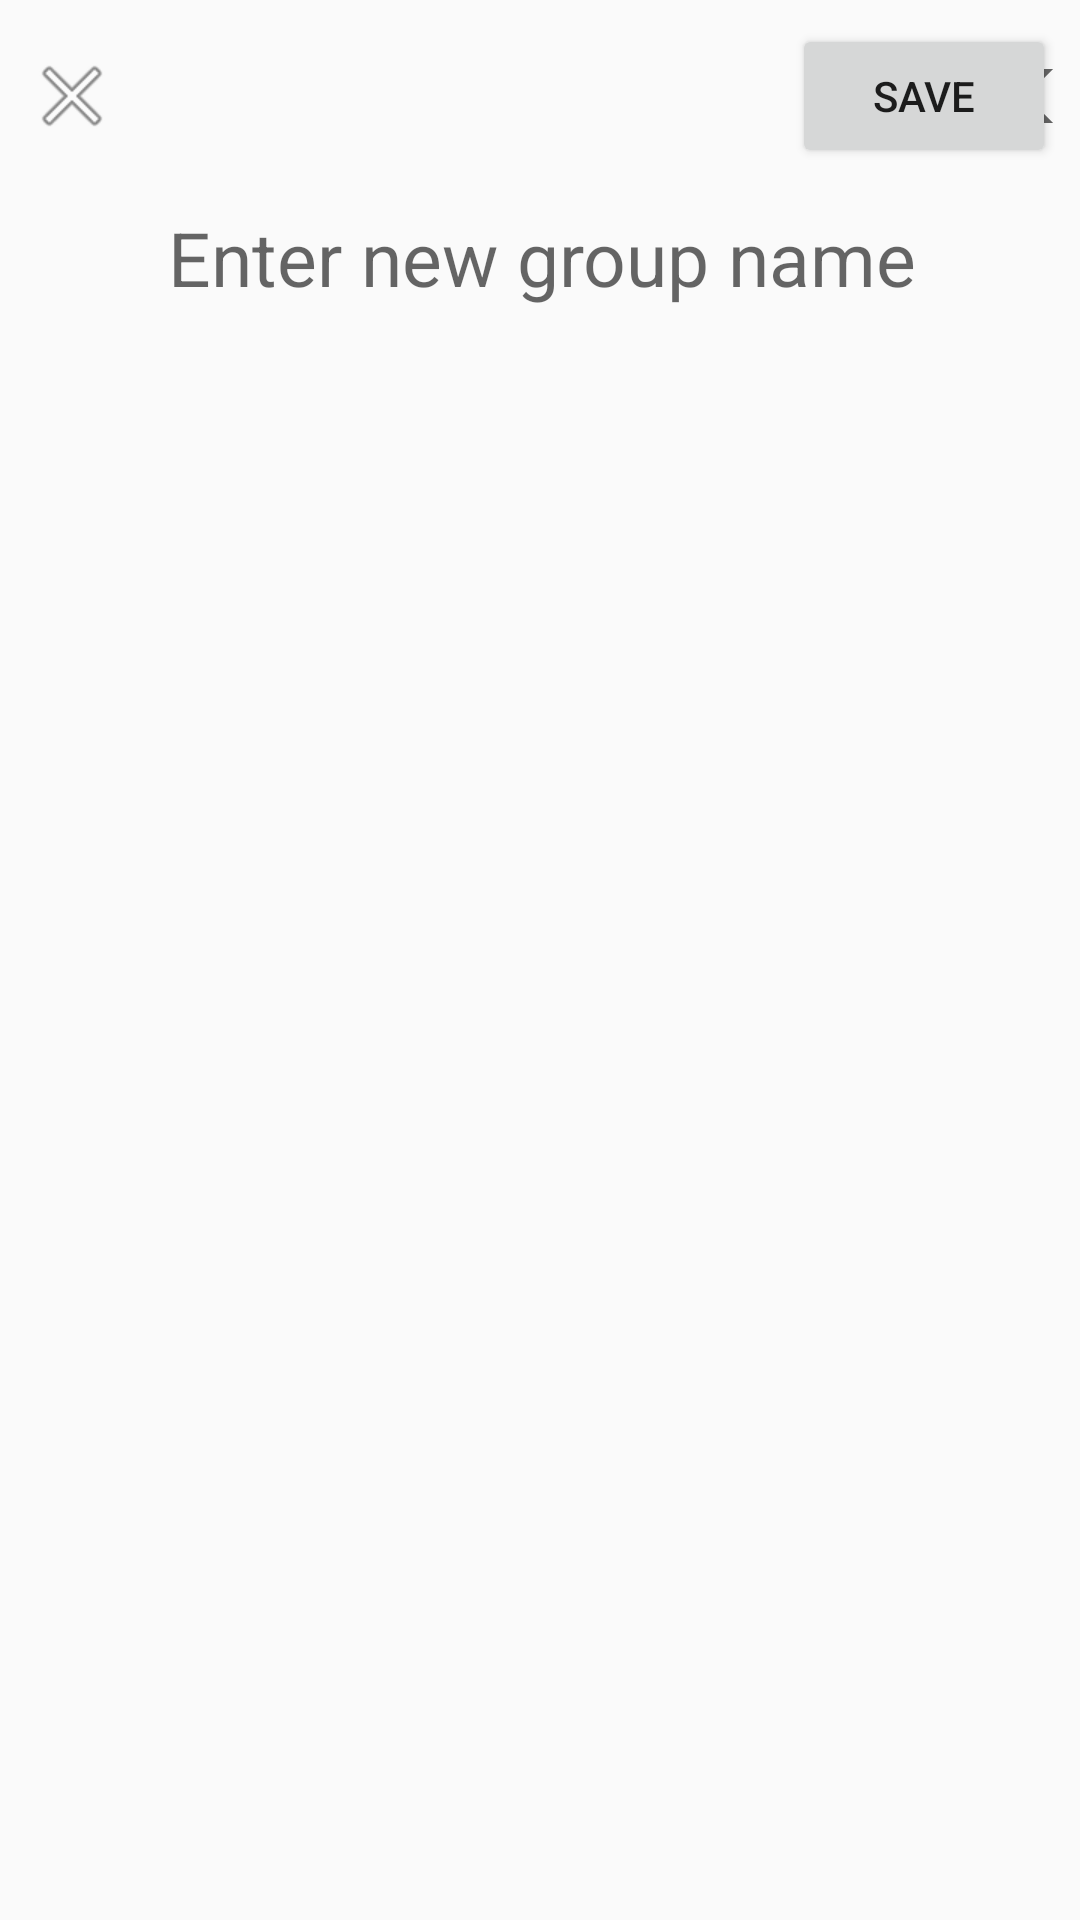

Screen size 1080 × 1920. Icon name, then its center in pixels as (x,y):
close clear cancel: (72,96)
